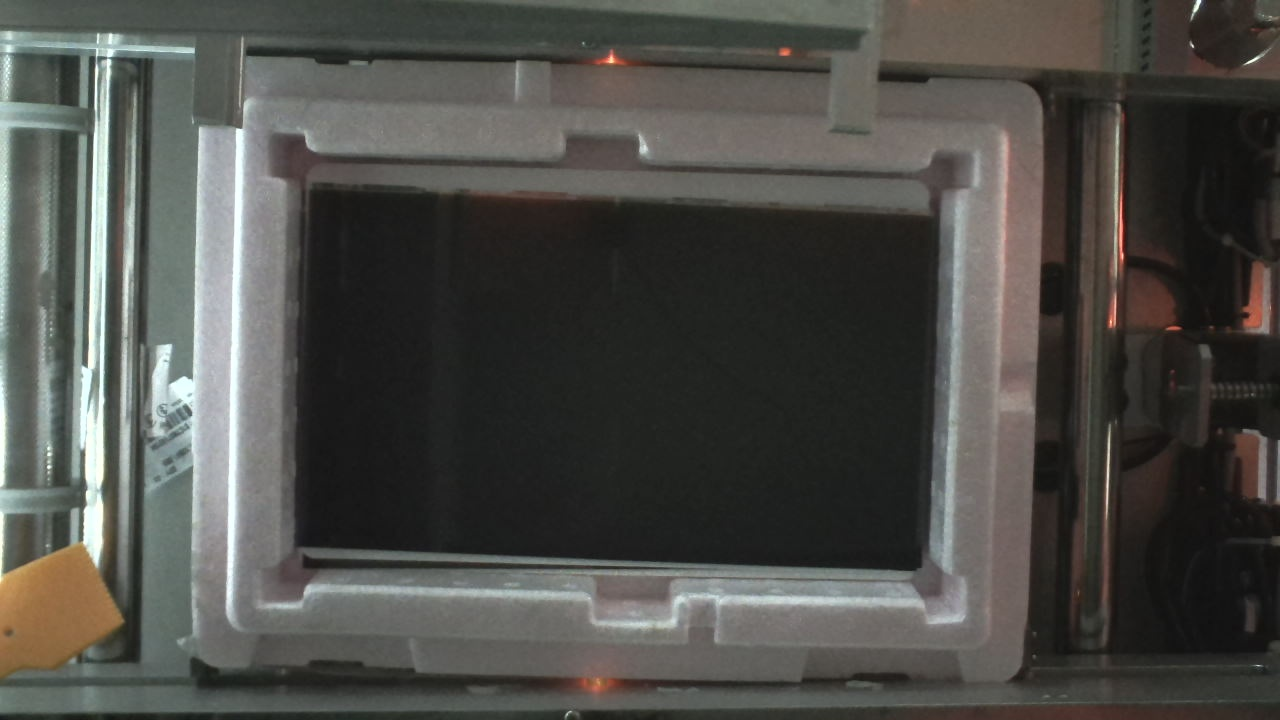OK: (185, 46, 1050, 681)
